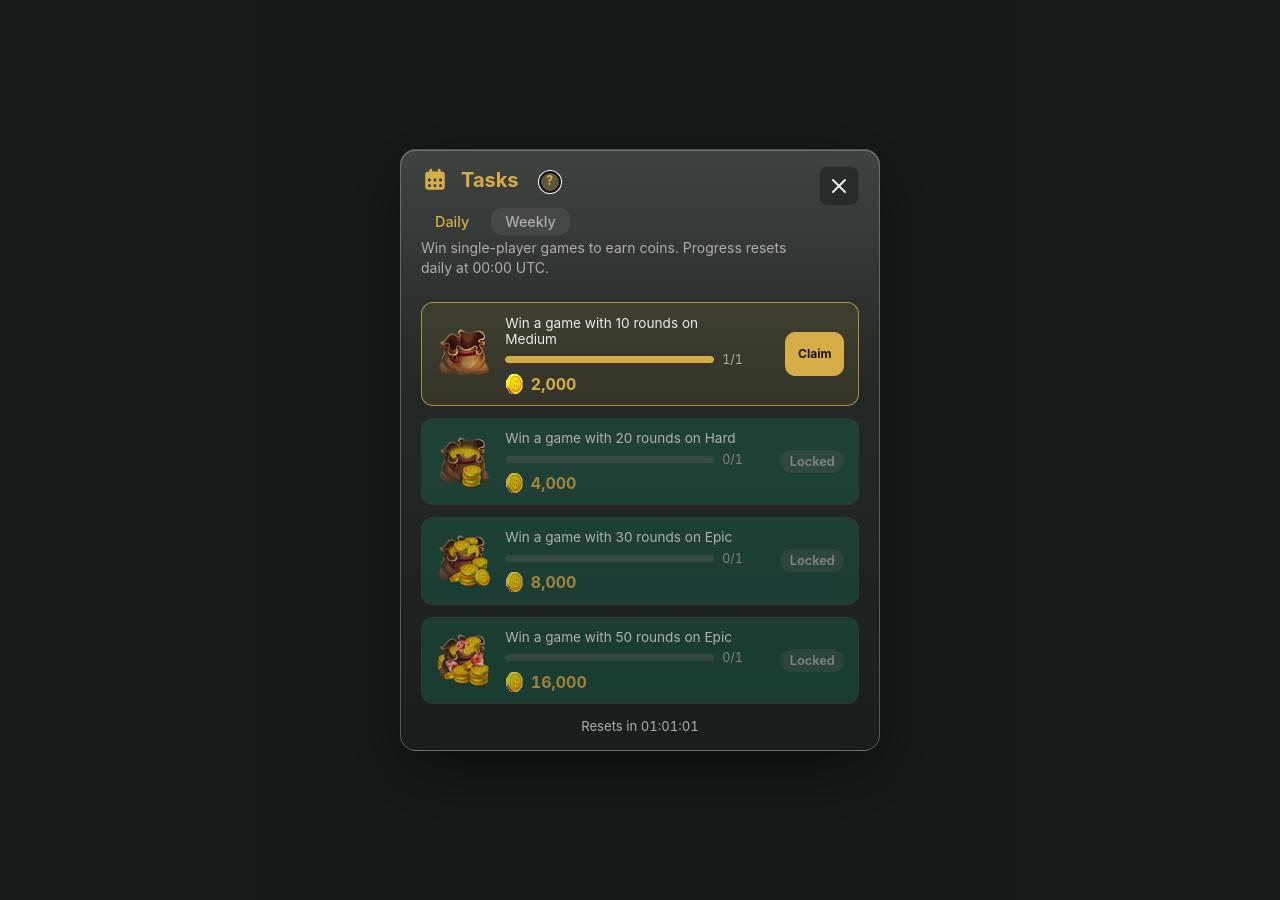
Test: DailyTasksDialog — weekly tab › switches to the weekly tab and renders count-based goals + progress
The width and height of the screenshot is (1280, 900).
Click the button "Weekly".
click(531, 222)  # box [491, 208, 570, 236]
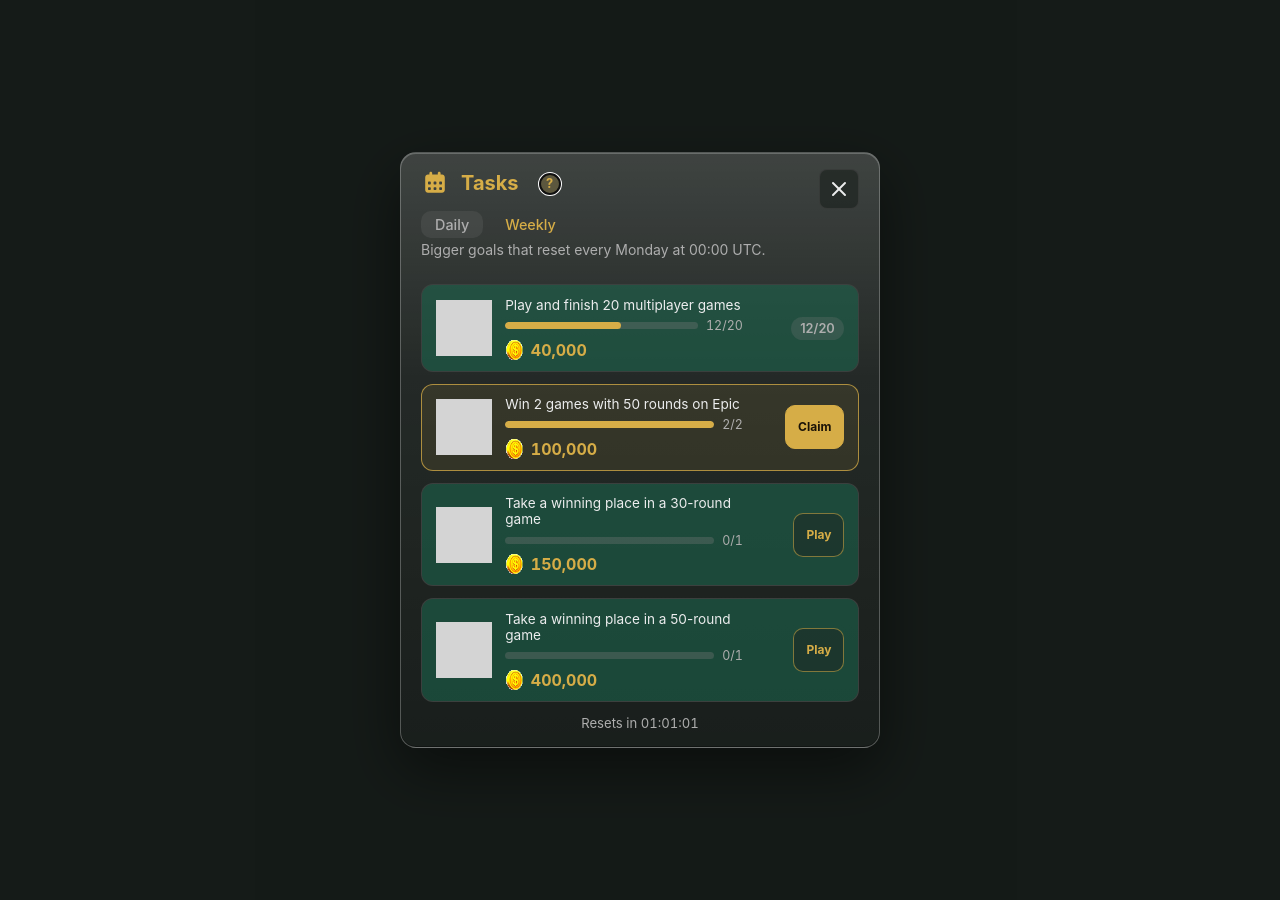
Now the heading "Play and finish 20 multiplayer games" is shown, box [505, 296, 743, 312]
Now the heading "Take a winning place in a 30-round game" is shown, box [505, 495, 743, 527]
Now the text "12/20" below "Play and finish 20 multiplayer games" is shown, box [706, 318, 743, 333]
